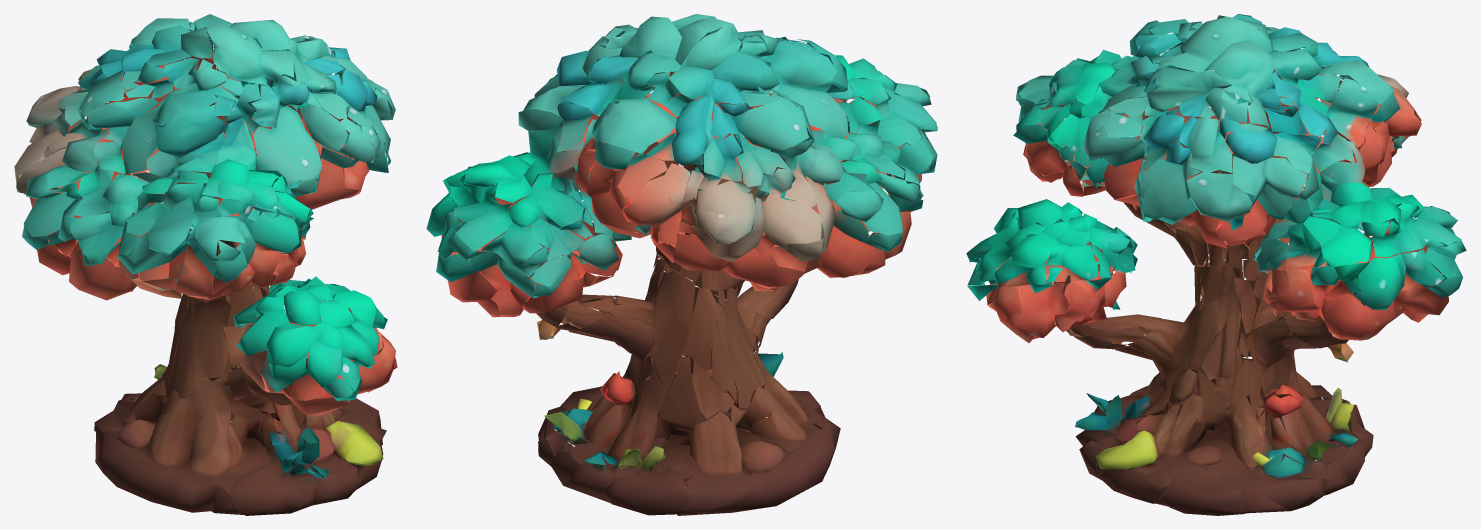
Rendered from TripoLushTree.fbx.
3 views of the same model, side by side, from view 1: azimuth 30°, elevation 25°; view 2: azimuth 150°, elevation 25°; view 3: azimuth 270°, elevation 25° (orthographic). The views are drawn at different scales.
Visible parts, largest first — view 1: TripoLushTree; view 2: TripoLushTree; view 3: TripoLushTree.
Boxes of the visible parts, bbox=[...] form: TripoLushTree: bbox=[14, 14, 397, 515]; TripoLushTree: bbox=[426, 14, 937, 515]; TripoLushTree: bbox=[966, 14, 1466, 515].
Size of the model in its own units: 6.4 by 7.22 by 6.8.
1 material, 1 textured.
